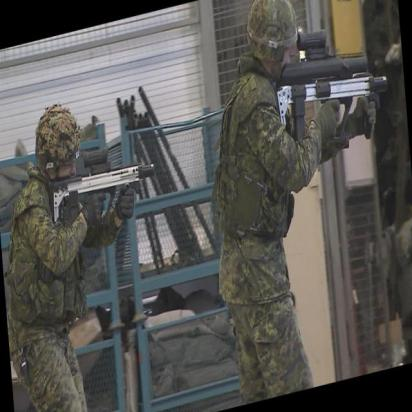Gun: (277, 31, 389, 146), (49, 154, 158, 226)
